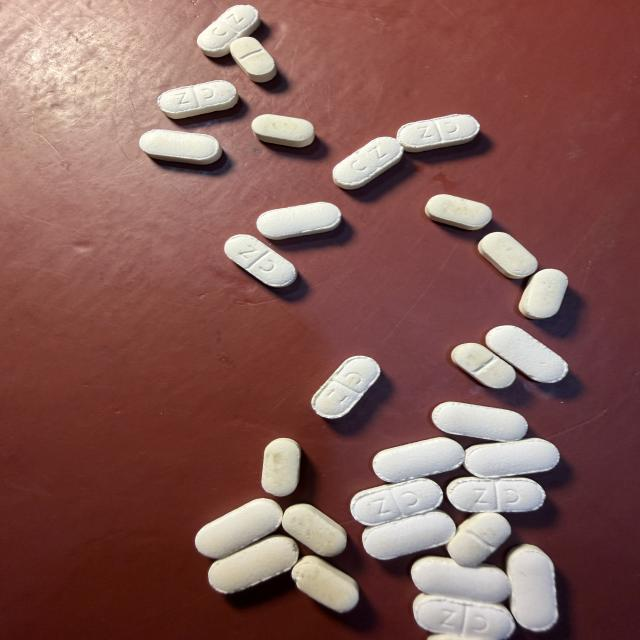pill: (209, 535, 298, 593), (195, 499, 282, 558), (486, 326, 568, 383), (413, 594, 515, 639), (362, 511, 455, 559), (411, 557, 510, 602), (507, 545, 558, 631), (351, 478, 442, 525), (312, 356, 380, 418), (373, 438, 464, 482), (464, 438, 559, 478), (292, 556, 358, 613), (432, 402, 527, 441), (225, 235, 296, 287), (333, 137, 403, 189), (447, 477, 545, 512), (447, 513, 511, 566), (282, 504, 346, 556), (197, 5, 259, 57), (257, 202, 341, 239), (158, 80, 237, 119), (397, 115, 479, 152), (452, 343, 515, 388), (140, 130, 222, 164), (479, 232, 537, 278), (519, 269, 568, 319), (425, 194, 491, 230), (262, 438, 301, 496), (230, 37, 276, 82), (252, 114, 314, 147)
